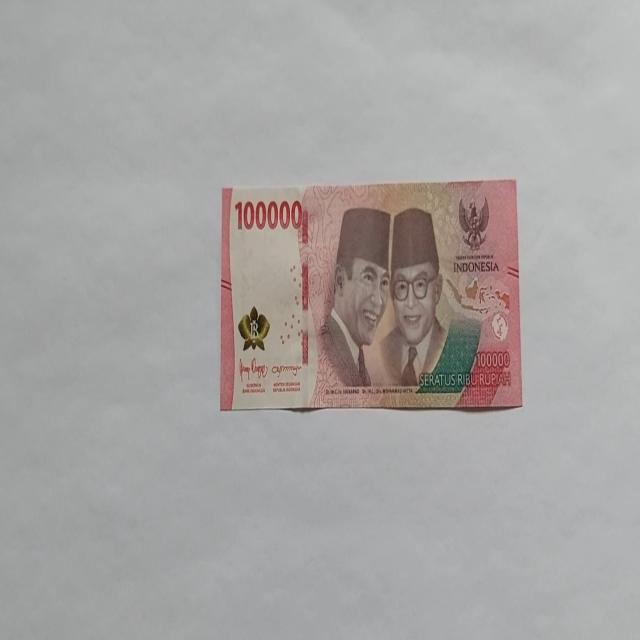seratus ribu rupiah: (220, 178, 522, 412)
